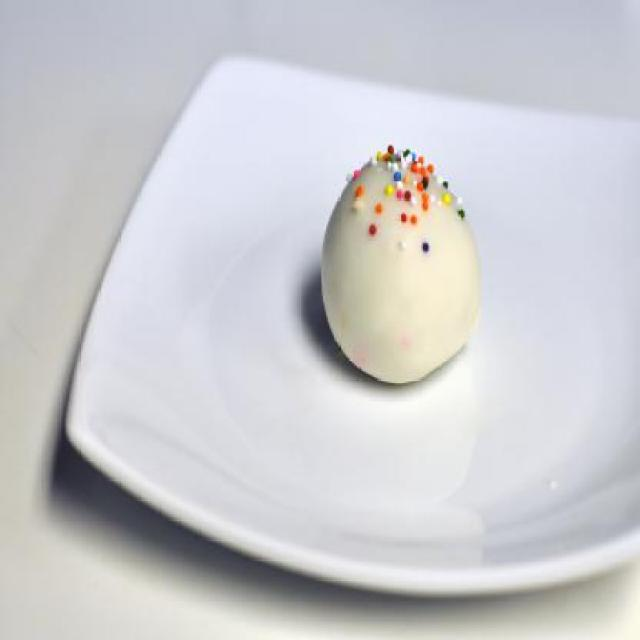Candy: (326, 163, 486, 379)
